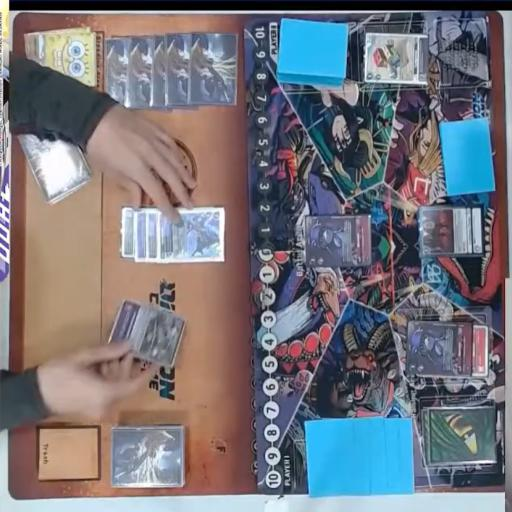card: (108, 308, 186, 368), (404, 320, 471, 378), (160, 208, 225, 264), (364, 34, 432, 86), (304, 218, 372, 268), (418, 206, 482, 258), (120, 203, 140, 259), (146, 205, 164, 264), (472, 320, 490, 378), (135, 203, 152, 263)
